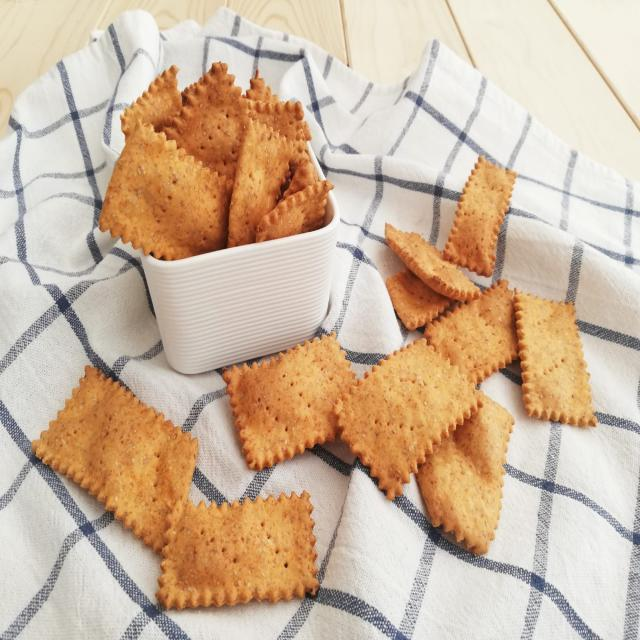Cracker: (41, 371, 200, 549), (122, 89, 310, 233), (340, 340, 479, 506), (226, 347, 388, 469), (153, 493, 327, 600), (417, 388, 513, 558), (508, 285, 598, 444), (450, 151, 513, 263)
